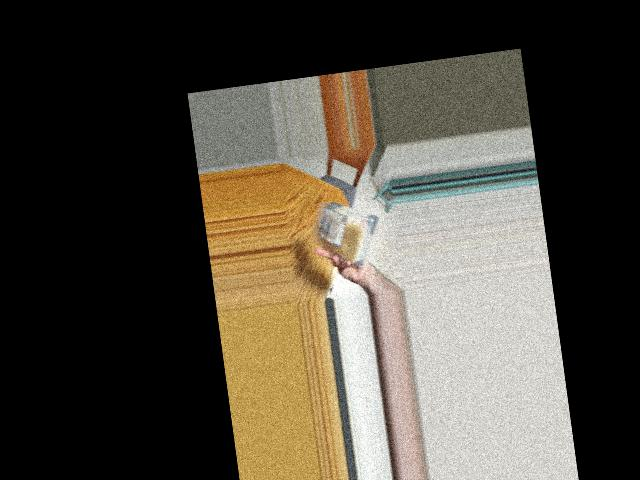cheese: (315, 191, 379, 270)
